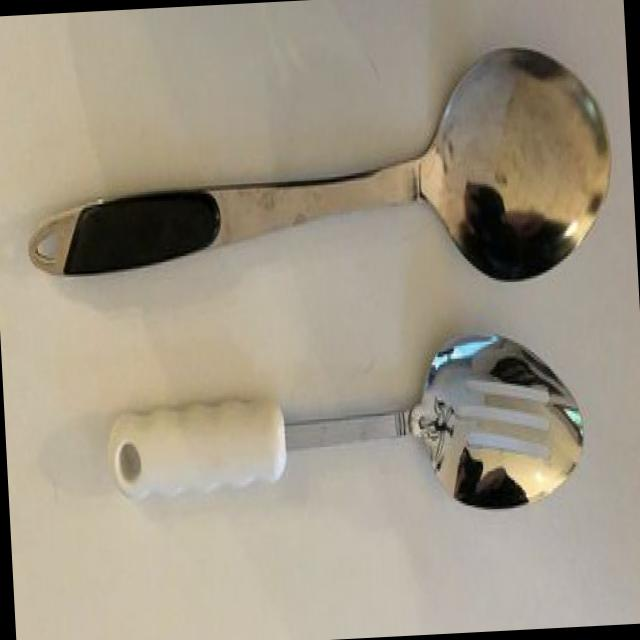spoon: (8, 25, 626, 322)
